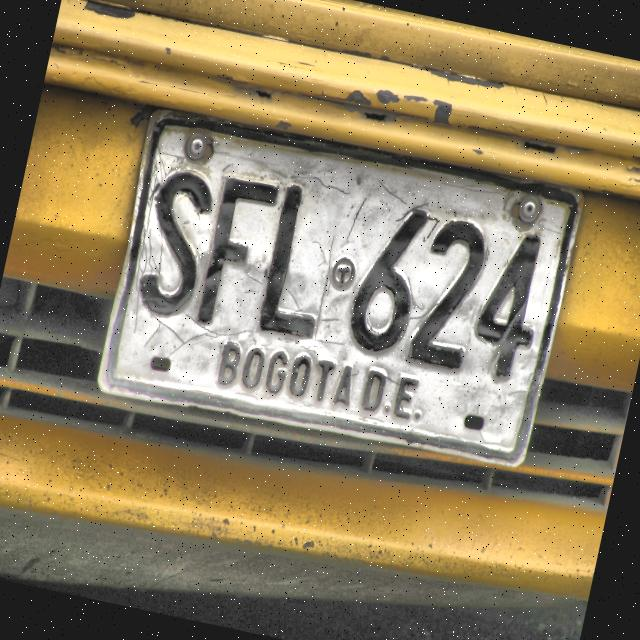plate: (98, 110, 586, 468)
